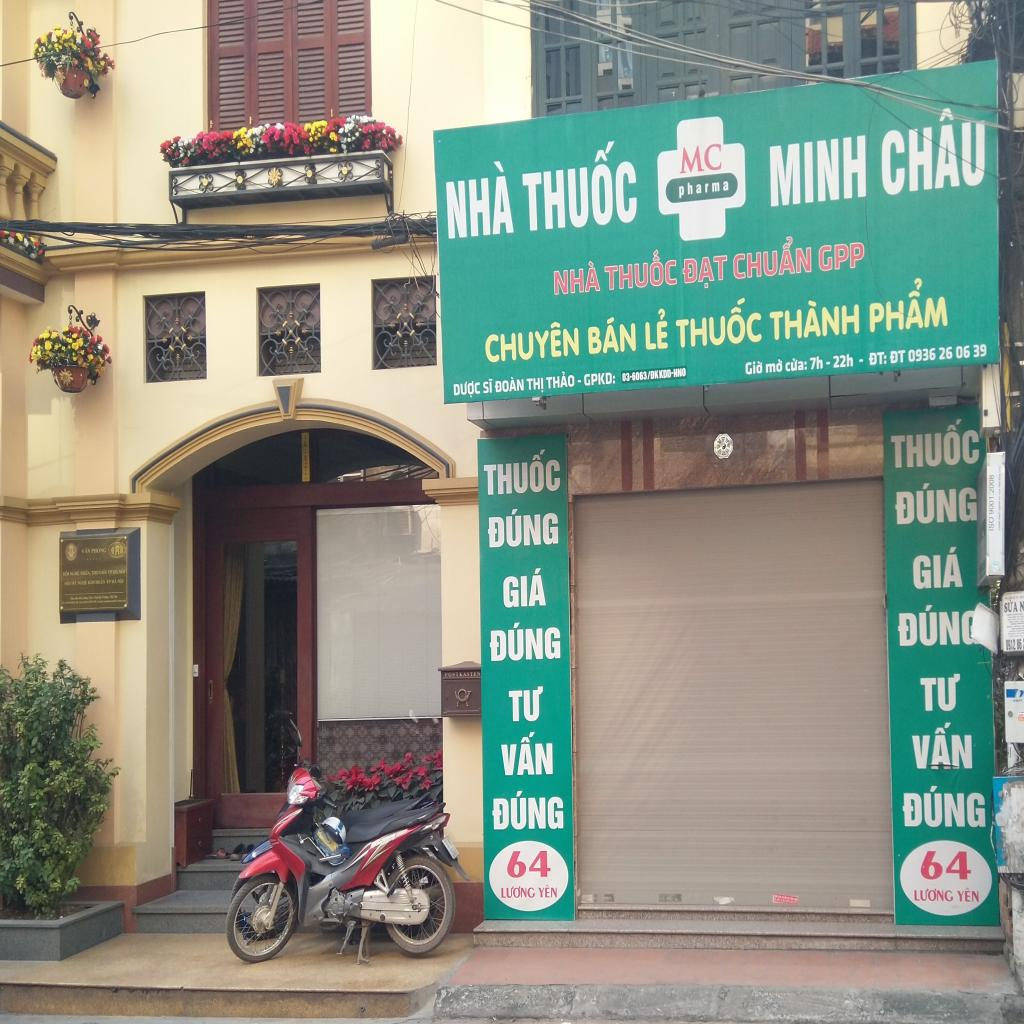text: (517, 134, 640, 233), (875, 102, 990, 198), (763, 131, 868, 208), (440, 156, 514, 240), (889, 417, 981, 471), (673, 296, 764, 350), (484, 317, 582, 366), (868, 276, 948, 334), (769, 293, 861, 341), (482, 447, 563, 499), (730, 233, 814, 283), (892, 480, 982, 526), (900, 785, 987, 828), (491, 783, 565, 831), (600, 247, 677, 292), (908, 720, 974, 772), (486, 503, 559, 549), (489, 616, 562, 662), (895, 602, 960, 647), (498, 728, 556, 777), (908, 543, 964, 590), (913, 667, 966, 713), (584, 312, 636, 357), (548, 260, 602, 298), (501, 565, 547, 609), (682, 251, 730, 291), (920, 847, 973, 882), (676, 141, 724, 179), (816, 240, 866, 275), (507, 680, 546, 722), (506, 846, 552, 880), (643, 306, 669, 351), (621, 367, 687, 384), (452, 378, 482, 402), (913, 887, 954, 903), (544, 369, 574, 390), (494, 374, 524, 394), (583, 370, 616, 388), (908, 346, 938, 364), (500, 886, 536, 899), (784, 356, 808, 373), (744, 357, 763, 378), (832, 352, 854, 370), (956, 887, 980, 903), (764, 356, 784, 375), (526, 375, 544, 396), (868, 350, 888, 368), (538, 883, 558, 899), (890, 348, 906, 367), (443, 670, 481, 678), (955, 344, 972, 360), (809, 354, 824, 372), (938, 345, 954, 361), (988, 475, 994, 514), (972, 343, 988, 357), (482, 376, 493, 396), (1004, 639, 1022, 651), (1003, 599, 1018, 613), (676, 183, 686, 200), (711, 179, 721, 192), (686, 180, 694, 196), (91, 546, 107, 554), (722, 179, 730, 192), (988, 516, 994, 531), (81, 546, 91, 554), (695, 183, 702, 194), (69, 570, 80, 577), (80, 569, 90, 576), (118, 567, 126, 575), (62, 570, 71, 577), (705, 182, 710, 194), (1020, 600, 1024, 612), (116, 578, 124, 584), (1012, 699, 1023, 703), (113, 567, 118, 574), (108, 570, 113, 576), (106, 579, 111, 585), (112, 578, 116, 584)
